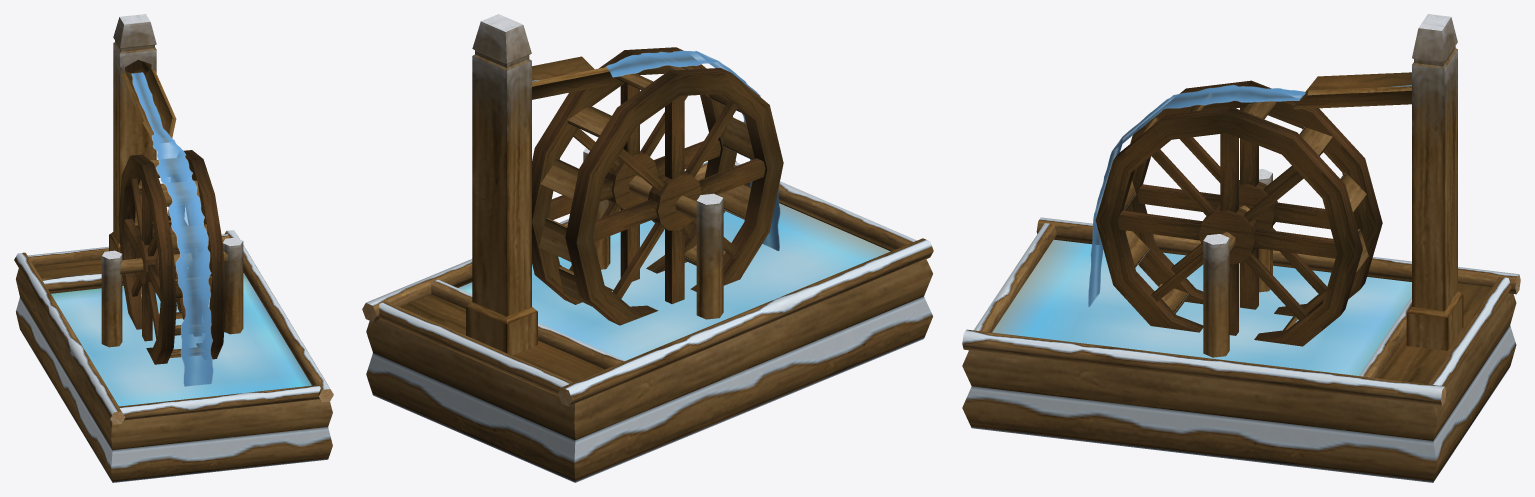
File: Watermill.glb
3 views of the same model, side by side, from view 1: azimuth 30°, elevation 25°; view 2: azimuth 150°, elevation 25°; view 3: azimuth 270°, elevation 25° (orthographic). The views are drawn at different scales.
Parts seen in each view (by area): view 1: Water_Mill_Pond, Water_Mill_Wheel, Water_Mill_Pond.001, Water_Mill_Pond_Flow; view 2: Water_Mill_Pond, Water_Mill_Wheel, Water_Mill_Pond.001, Water_Mill_Pond_Flow; view 3: Water_Mill_Pond, Water_Mill_Wheel, Water_Mill_Pond.001, Water_Mill_Pond_Flow.
Part boxes in pixels (bbox=[...]): Water_Mill_Pond: bbox=[14, 14, 333, 482]; Water_Mill_Wheel: bbox=[118, 150, 226, 364]; Water_Mill_Pond.001: bbox=[51, 273, 311, 406]; Water_Mill_Pond_Flow: bbox=[131, 72, 213, 386]; Water_Mill_Pond: bbox=[362, 14, 933, 482]; Water_Mill_Wheel: bbox=[532, 47, 783, 325]; Water_Mill_Pond.001: bbox=[458, 203, 890, 360]; Water_Mill_Pond_Flow: bbox=[532, 50, 780, 250]; Water_Mill_Pond: bbox=[962, 14, 1520, 482]; Water_Mill_Wheel: bbox=[1095, 80, 1382, 346]; Water_Mill_Pond.001: bbox=[992, 239, 1411, 375]; Water_Mill_Pond_Flow: bbox=[1088, 85, 1411, 306].
Bounding box in the file's own units: 5.2 × 5.48 × 6.93.
Materials: 3 (3 with a texture image).
